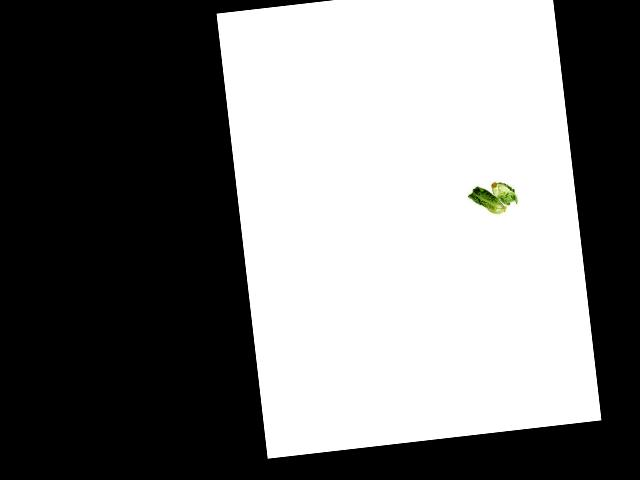lettuce: (488, 176, 519, 207)
